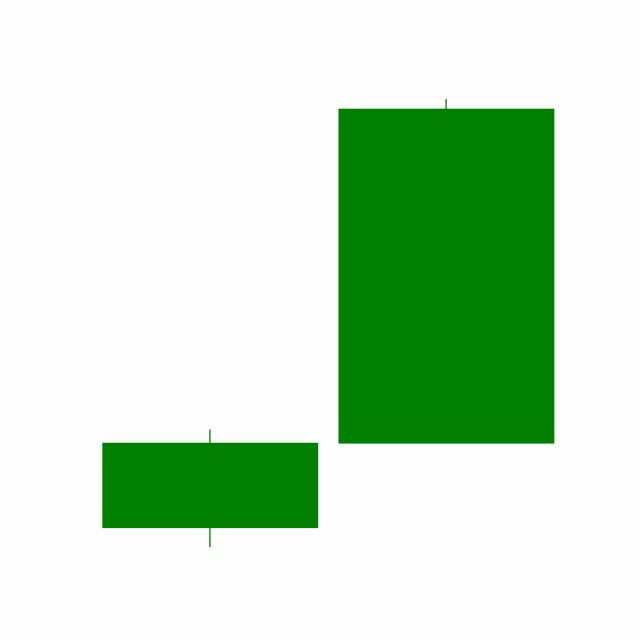Marubozu: (327, 95, 565, 448)
